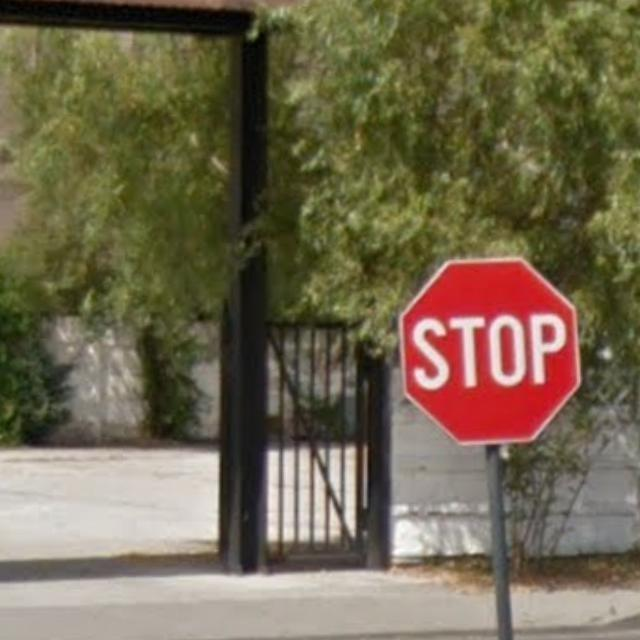prio_stop: (398, 260, 581, 443)
